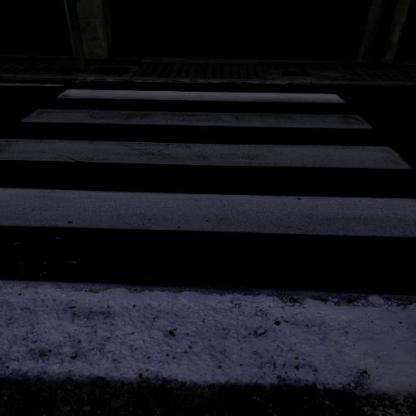crosswalk: (9, 87, 391, 133)
